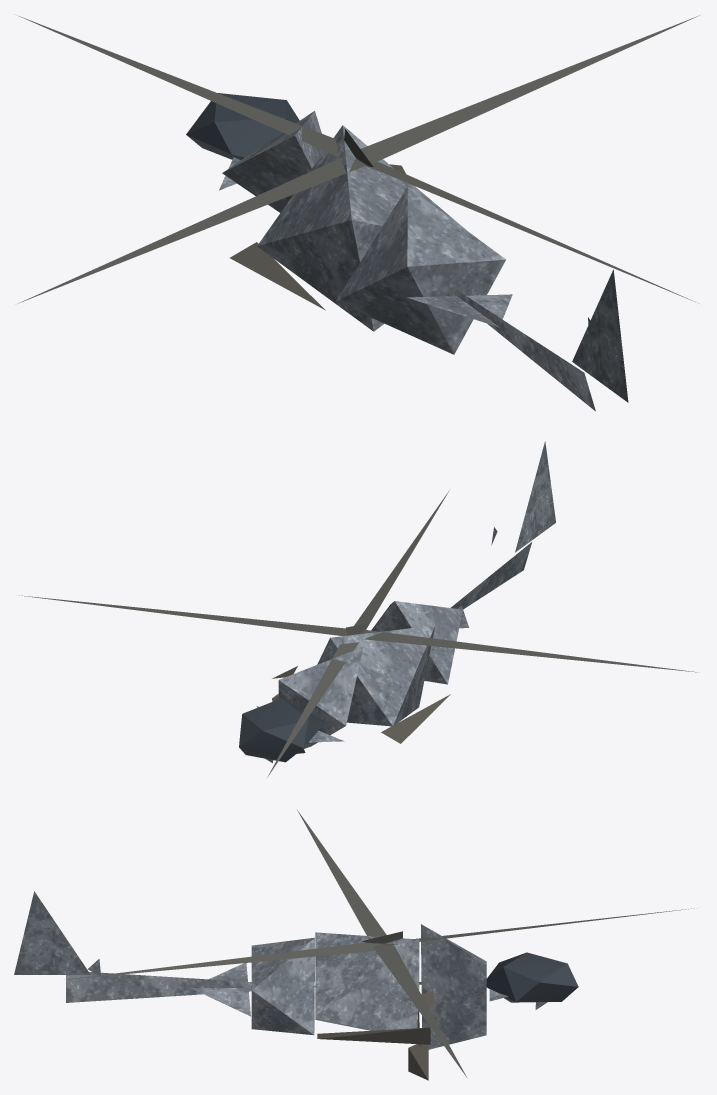
File: hel_e2_us_asw_LOD2.glb
3 renders of one model, top to bottom at view 1: azimuth 30°, elevation 25°; view 2: azimuth 150°, elevation 25°; view 3: azimuth 270°, elevation 25°, orthographic. The views are drawn at different scales.
Parts seen in each view (by area): view 1: hel_e2_us_asw_LOD2_body, hel_e2_us_asw_LOD2_gun, hel_e2_us_asw_LOD2_glass, hel_e2_us_asw_LOD2_deck; view 2: hel_e2_us_asw_LOD2_body, hel_e2_us_asw_LOD2_gun, hel_e2_us_asw_LOD2_glass, hel_e2_us_asw_LOD2_deck; view 3: hel_e2_us_asw_LOD2_body, hel_e2_us_asw_LOD2_gun, hel_e2_us_asw_LOD2_glass, hel_e2_us_asw_LOD2_deck.
Part boxes in pixels (<box>): hel_e2_us_asw_LOD2_body: <box>219,111,628,411</box>; hel_e2_us_asw_LOD2_gun: <box>18,15,699,303</box>; hel_e2_us_asw_LOD2_glass: <box>186,93,299,159</box>; hel_e2_us_asw_LOD2_deck: <box>230,164,405,310</box>; hel_e2_us_asw_LOD2_body: <box>256,441,555,763</box>; hel_e2_us_asw_LOD2_gun: <box>19,490,698,777</box>; hel_e2_us_asw_LOD2_glass: <box>239,698,325,762</box>; hel_e2_us_asw_LOD2_deck: <box>272,666,450,753</box>; hel_e2_us_asw_LOD2_body: <box>14,891,547,1049</box>; hel_e2_us_asw_LOD2_gun: <box>64,810,694,1077</box>; hel_e2_us_asw_LOD2_glass: <box>486,952,578,1002</box>; hel_e2_us_asw_LOD2_deck: <box>317,982,433,1080</box>.
Bounding box in the file's own units: 15.84 × 4.44 × 17.01.
Materials: 4 (1 with a texture image).
